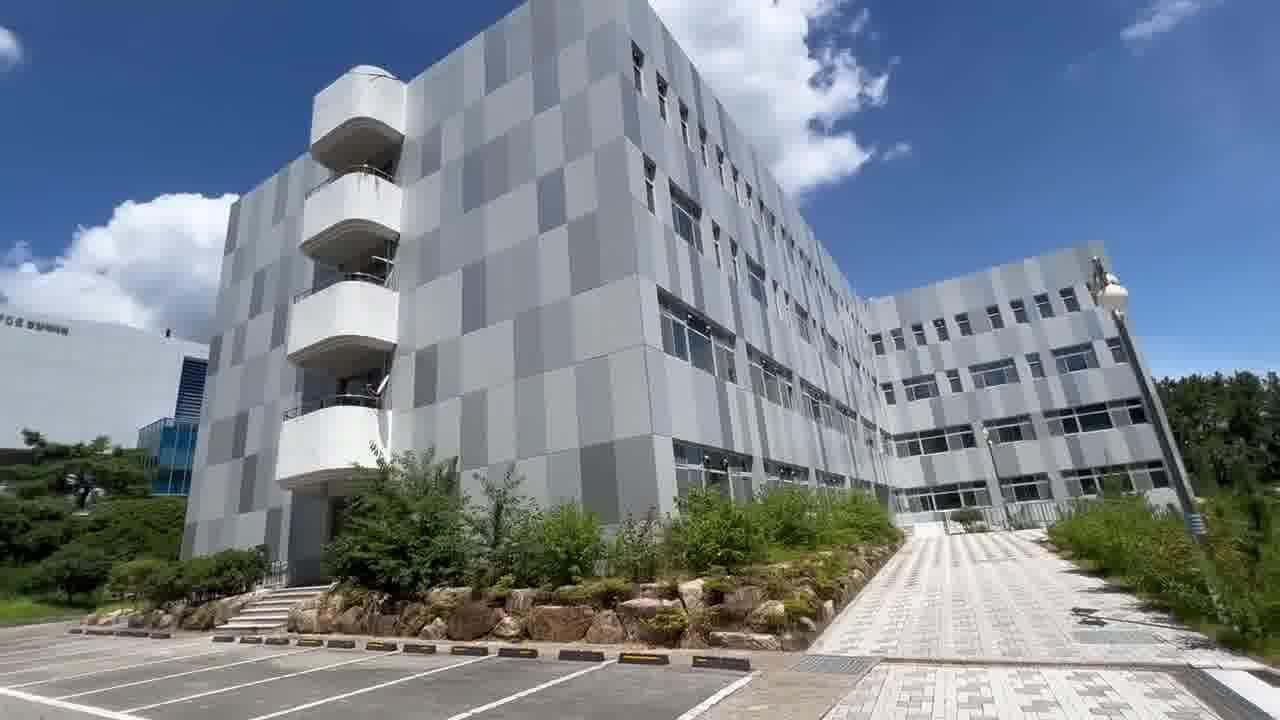building: (199, 20, 1141, 506)
